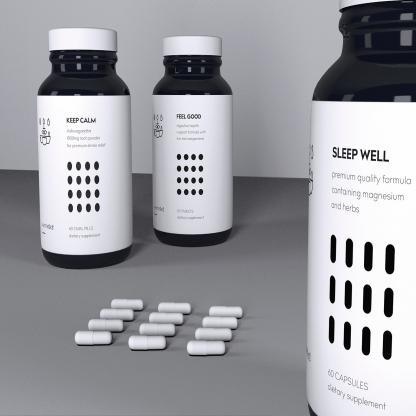jar: (36, 27, 133, 269), (153, 37, 232, 246)
